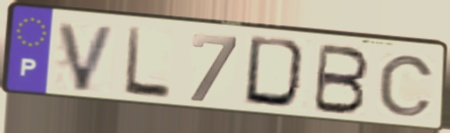7: (189, 32, 241, 104)
B: (310, 41, 373, 117)
C: (376, 53, 437, 119)
D: (241, 34, 313, 114)
L: (122, 25, 174, 101)
V: (55, 20, 119, 94)
